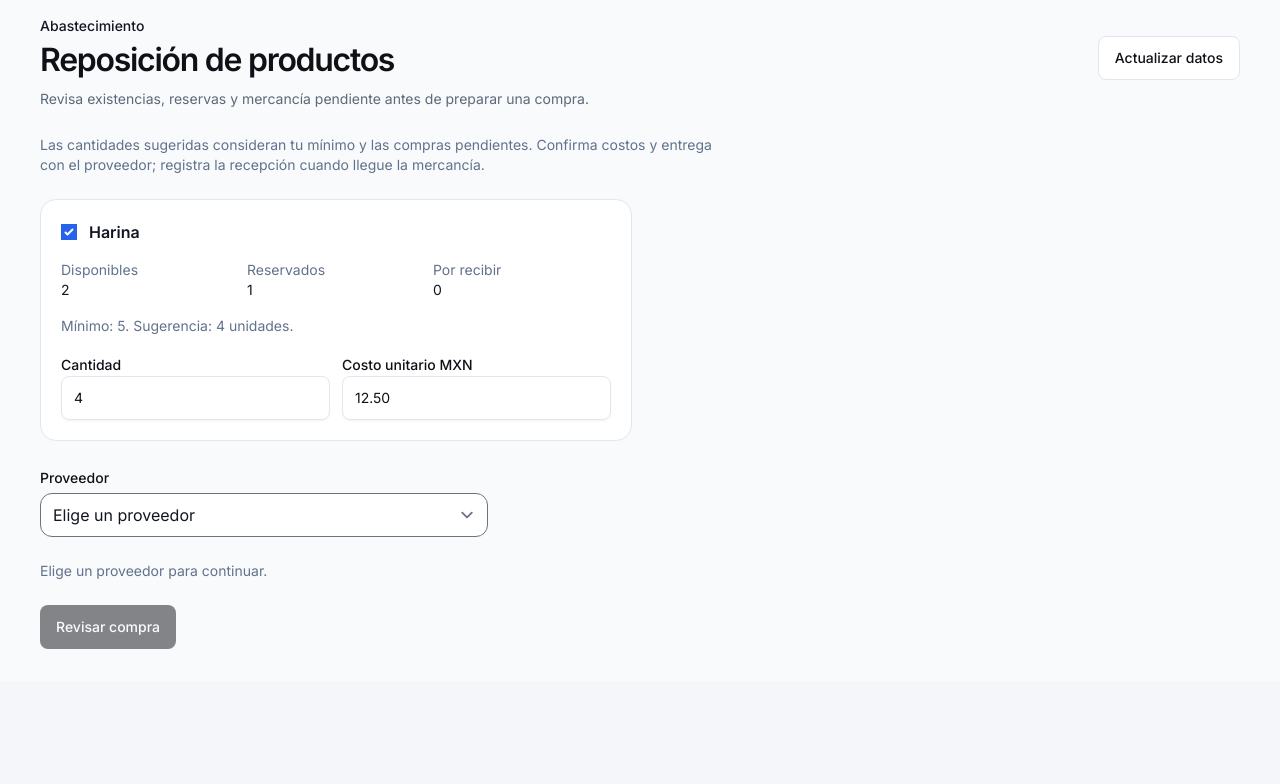
requires a supplier and two-step review before creating a pending purchase
Expected: the text "Harina" is shown, [61, 222, 140, 242]
Expected: the button "Revisar compra" is disabled, [40, 605, 176, 649]
Select "Proveedor registrado" in the dropdown labelled "Proveedor" at (264, 515), box [40, 493, 488, 537]
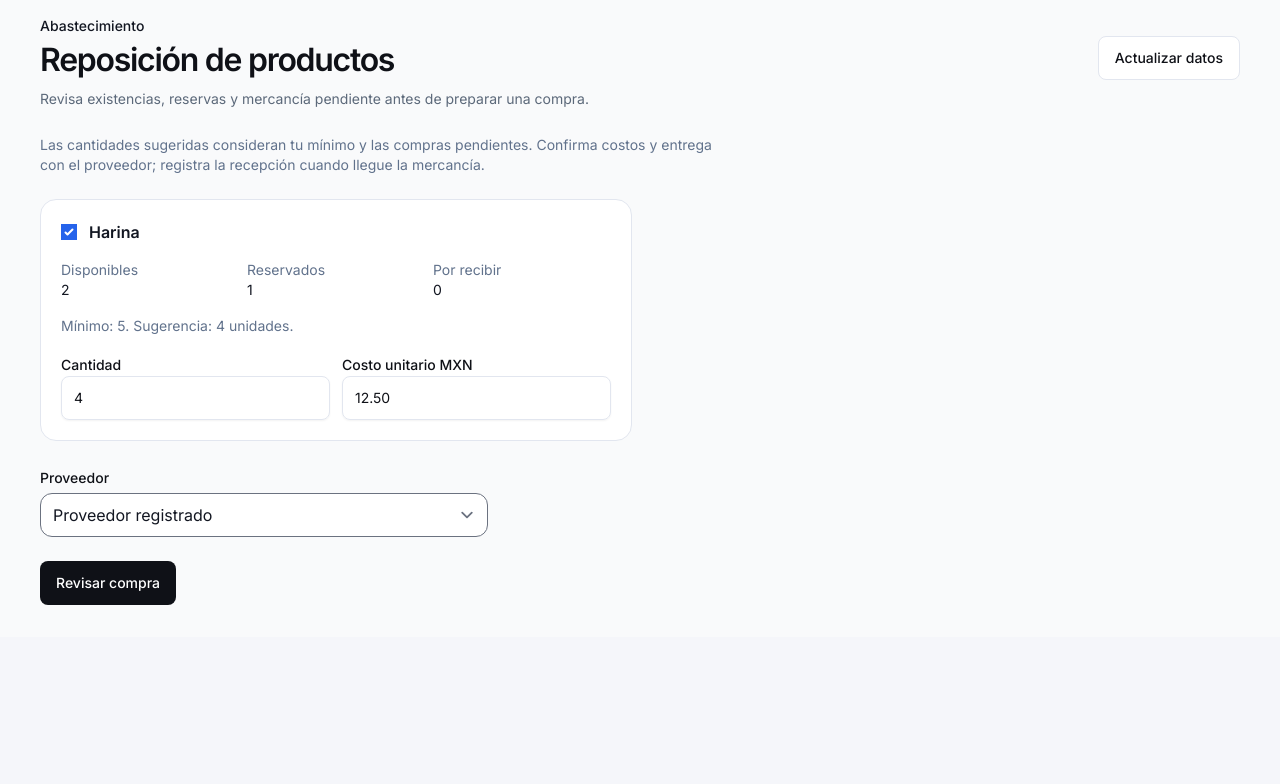
Click the button "Revisar compra" at (108, 583), box [40, 561, 176, 605]
(page scrolled)
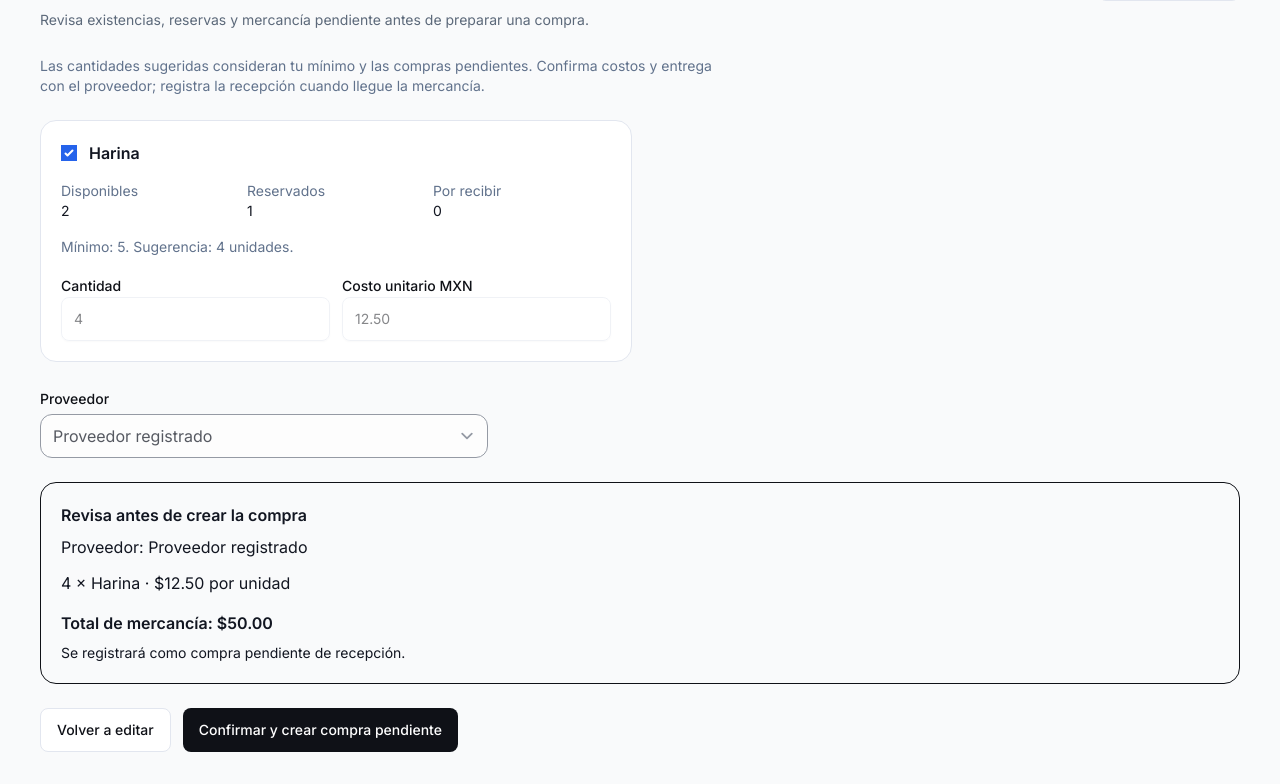
Result: the element named "Confirmación de compra" shows "$50.00" at [217, 613, 273, 633]
Click the button "Confirmar y crear compra pendiente" at (320, 730), box [183, 708, 458, 752]
(page scrolled)
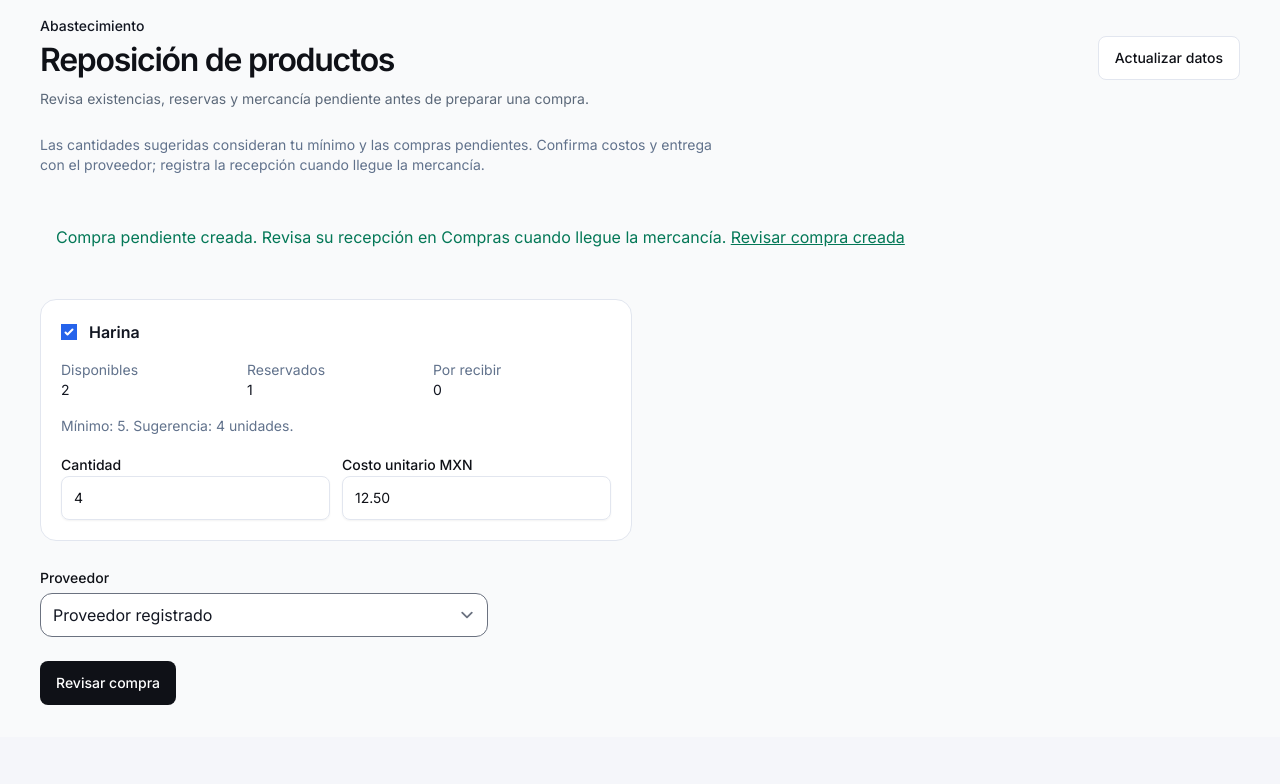
Result: the text "Compra pendiente creada" is shown at [56, 227, 726, 247]
